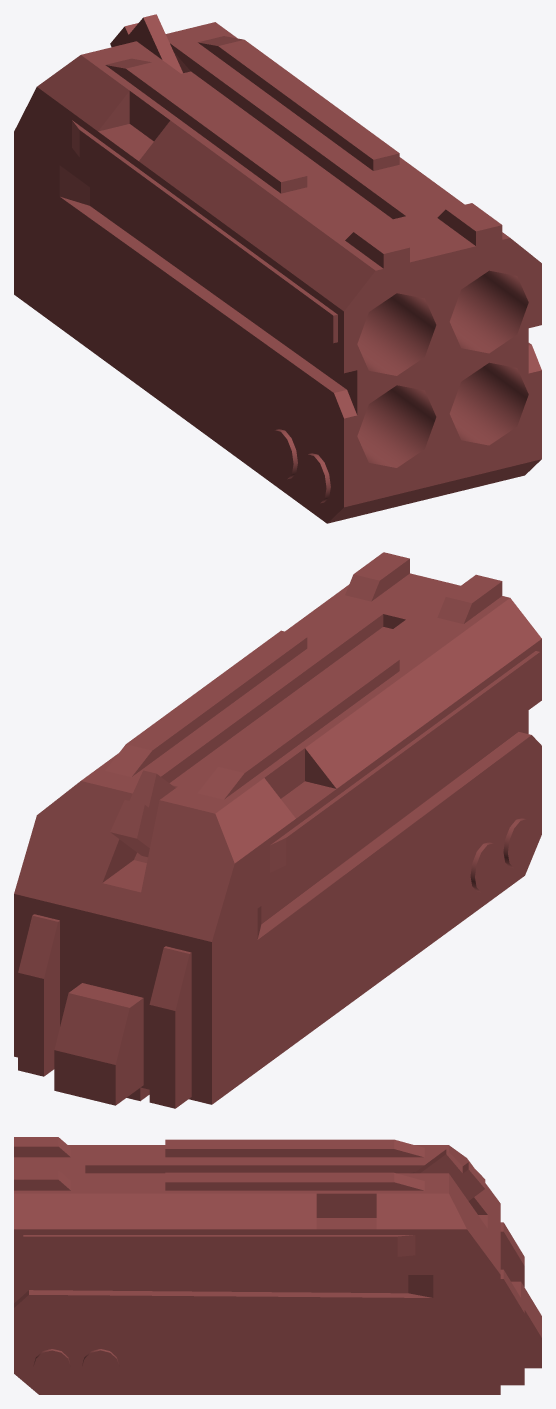
The model's file is WM0_Cannon_x4_LVL2.FBX.
3 views of the same model, one above another, from view 1: azimuth 30°, elevation 25°; view 2: azimuth 150°, elevation 25°; view 3: azimuth 270°, elevation 25° (orthographic). The views are drawn at different scales.
Parts seen in each view (by area): view 1: WM0_Cannon_x4_LVL2; view 2: WM0_Cannon_x4_LVL2; view 3: WM0_Cannon_x4_LVL2.
Boxes of the visible parts, left/top/right/bottom form: WM0_Cannon_x4_LVL2: left=14, top=14, right=541, bottom=523; WM0_Cannon_x4_LVL2: left=14, top=552, right=541, bottom=1108; WM0_Cannon_x4_LVL2: left=14, top=1137, right=541, bottom=1394.
Bounding box in the file's own units: 11.75 × 16.05 × 35.25.
